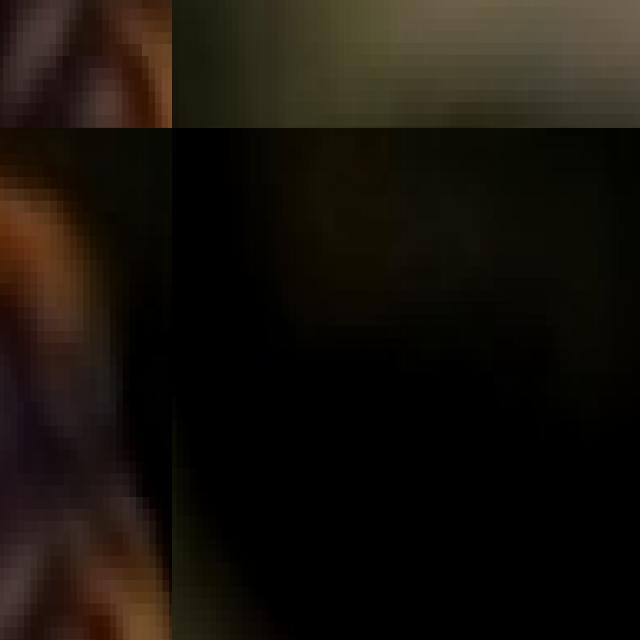fish: (0, 128, 172, 639), (0, 0, 172, 128)
